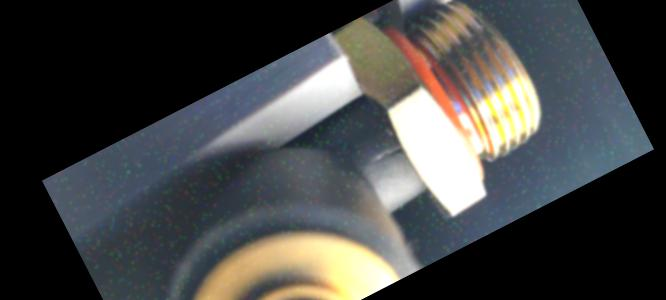craze: (368, 141, 406, 167)
